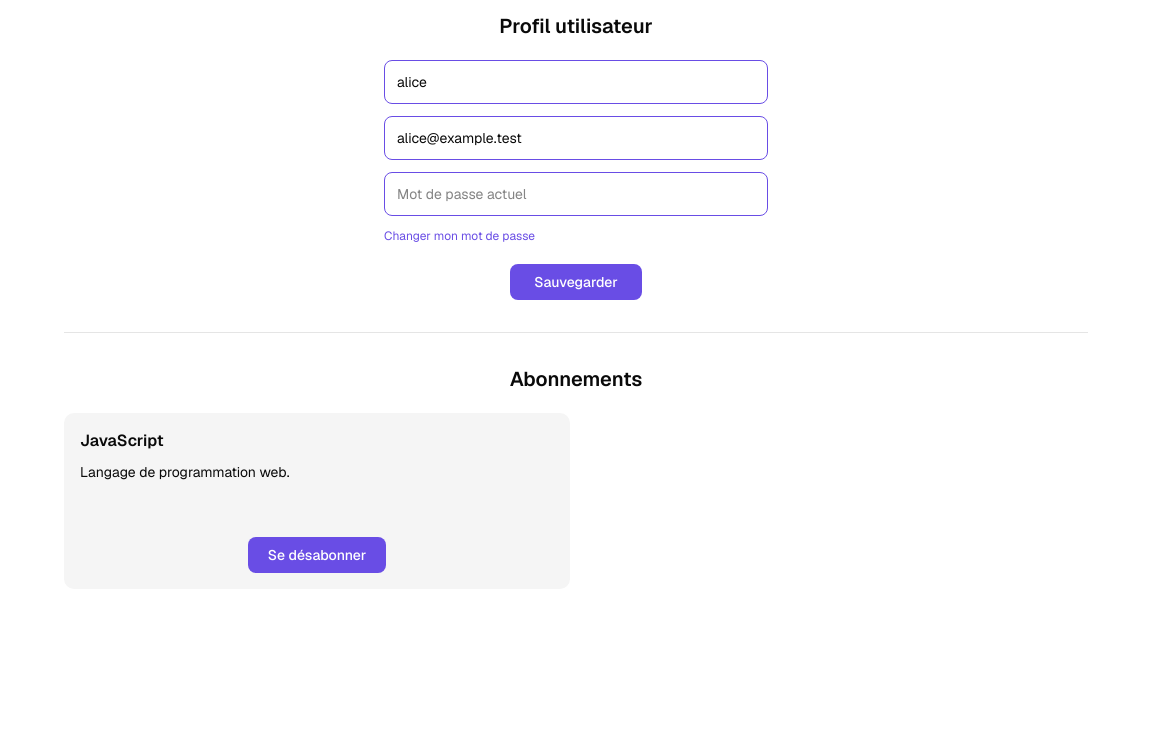
Scenario: ProfilePage › affiche une erreur si le mot de passe actuel est incorrect
Type "MauvaisMotDePasse123!" into the password field labelled "Mot de passe actuel" at (576, 194), box [384,172,768,216]
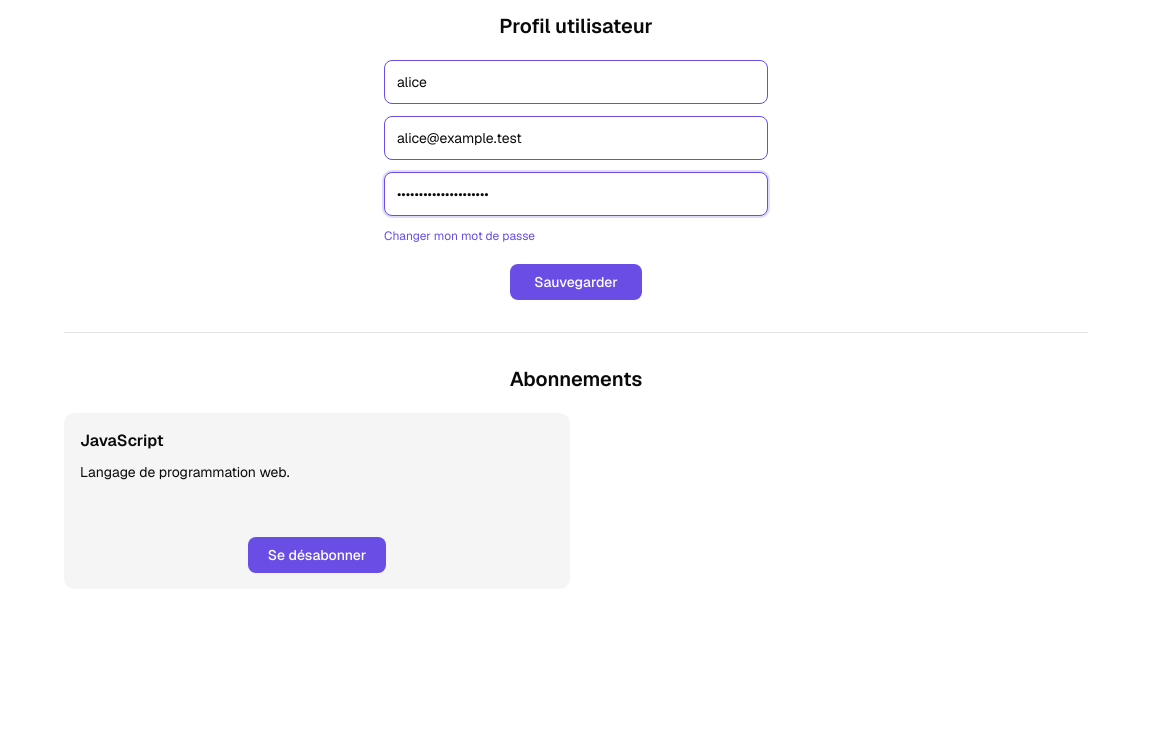
Click the button "Sauvegarder" at (576, 282), box [510,264,642,300]
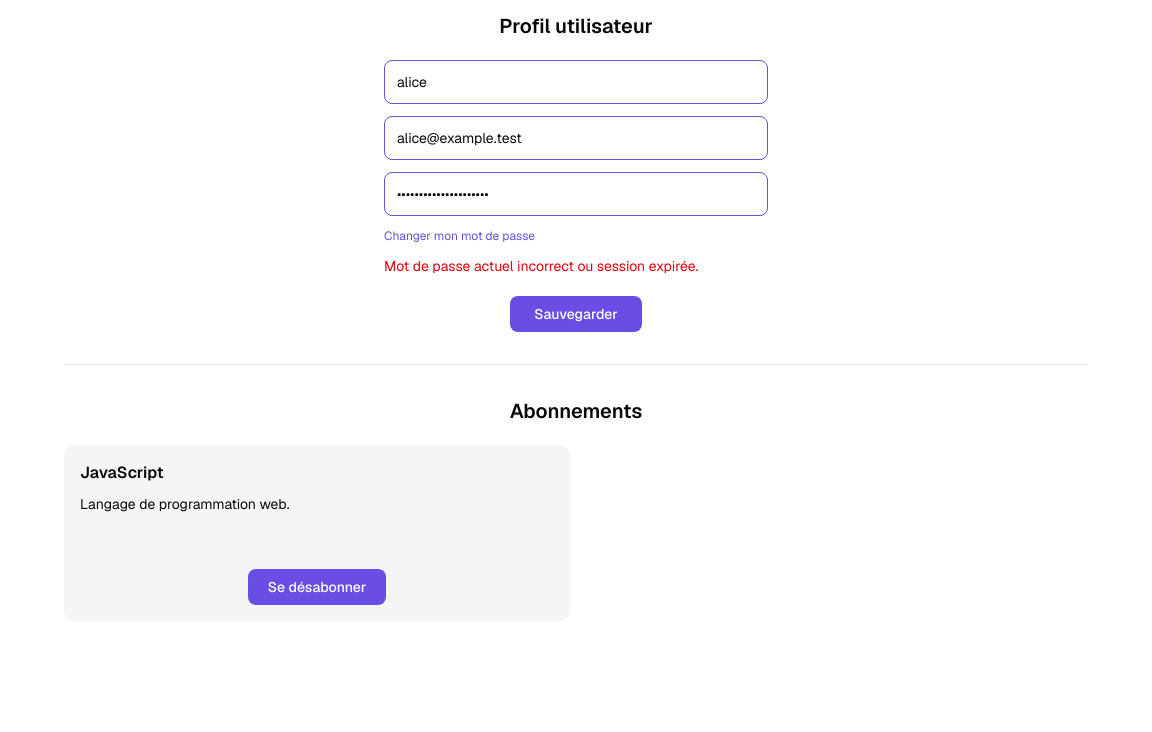
Expected: the message reads "Mot de passe actuel incorrect ou session expirée.", [384,257,698,275]
